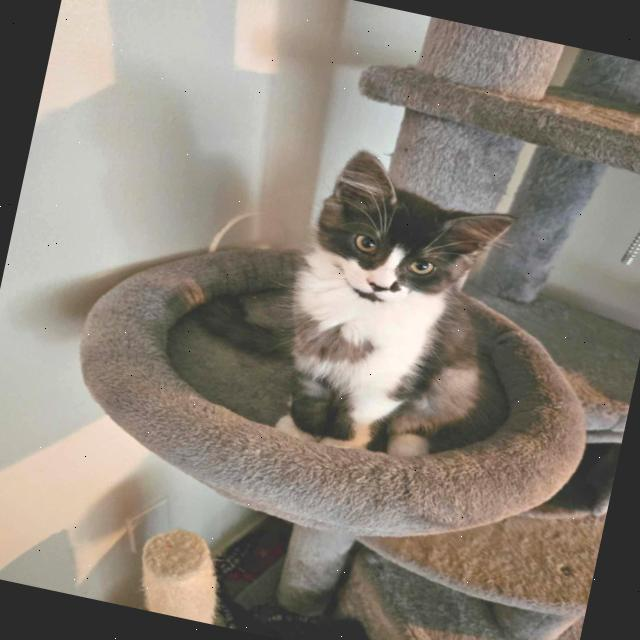domestic_long_hair_cat: (292, 136, 532, 340)
